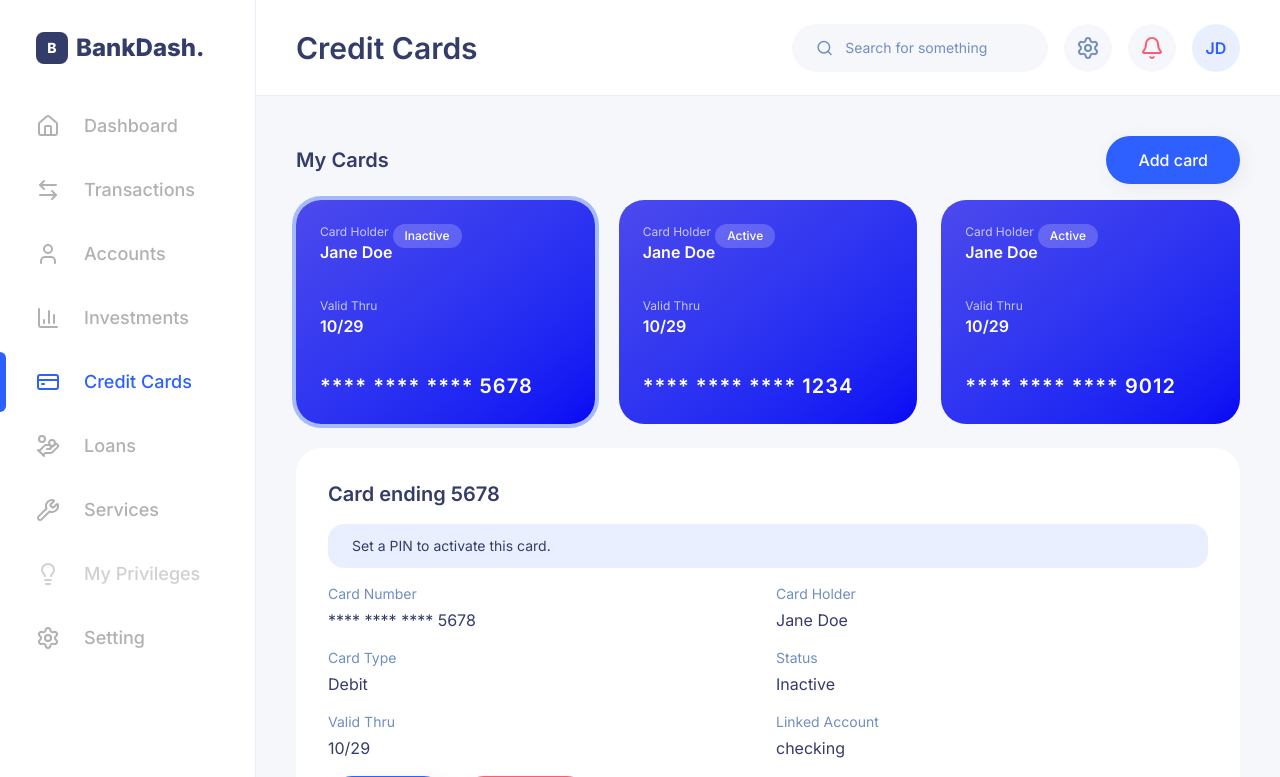
Test: Credit Cards › Block card › AC13: shows the card as blocked and a confirmation message
This screenshot has width=1280, height=777.
Click the button with aria-label "Card ending 1234". click: (677, 232)
box: [619,200,917,424]
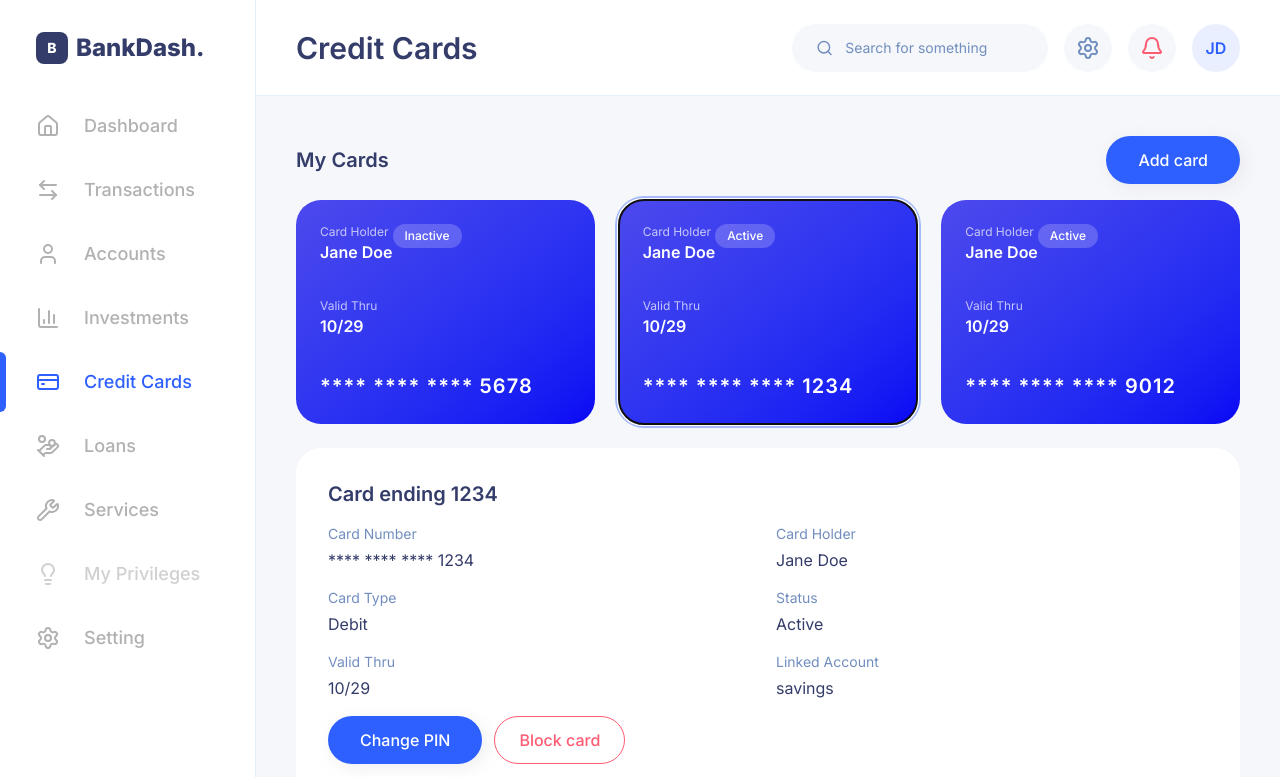
Click the button "Block card". click: (560, 740)
box: [494,716,625,764]
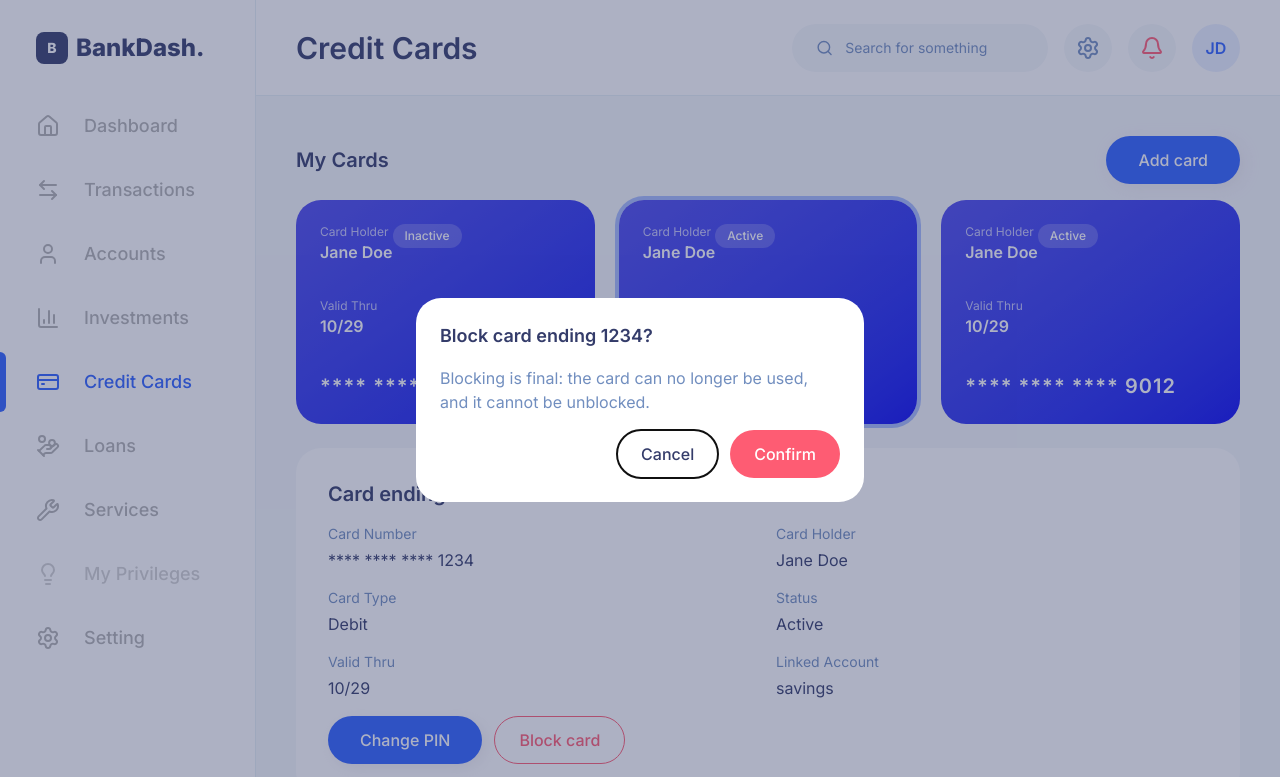
Click the button "Confirm". click: (785, 454)
box: [730,430,840,478]
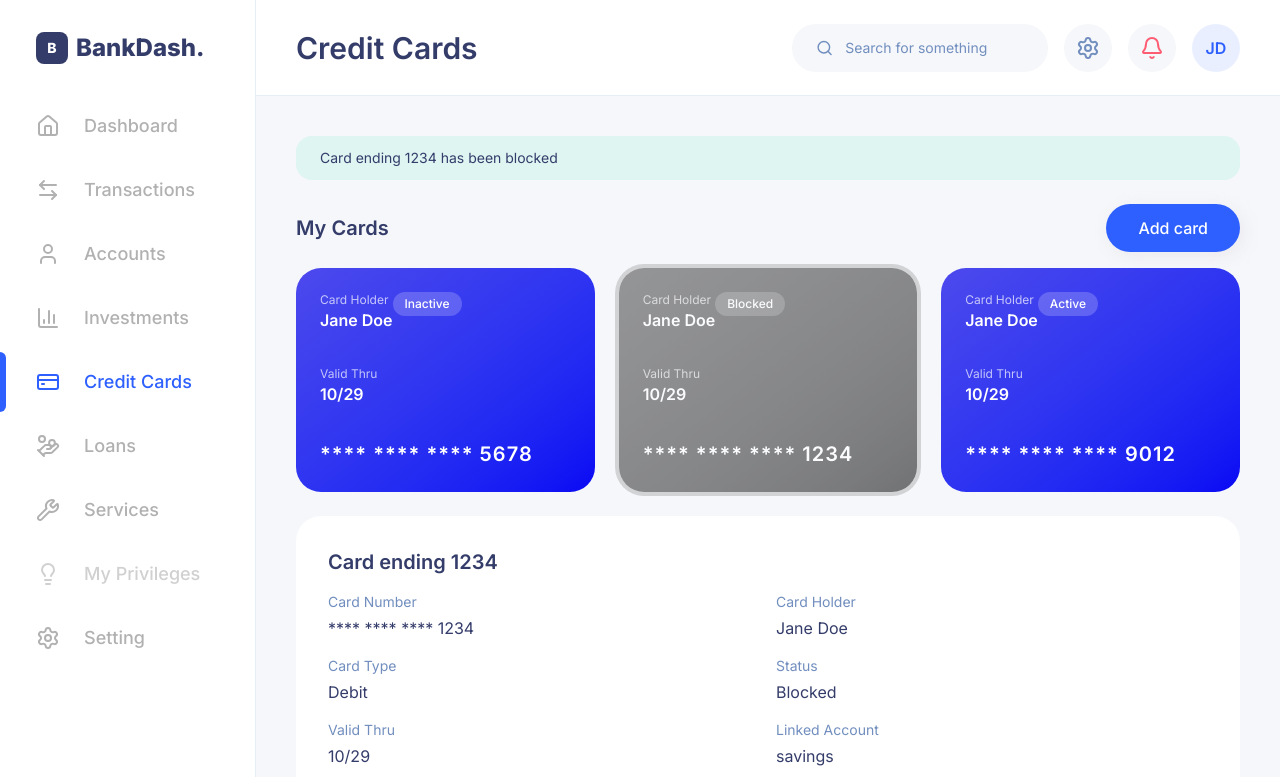
Now the message reads "Card ending 1234 has been blocked", box [320,149,558,166]
Now the text "Blocked" below "Status" is shown, box [776,682,837,702]
Now the button "Block card" is gone
